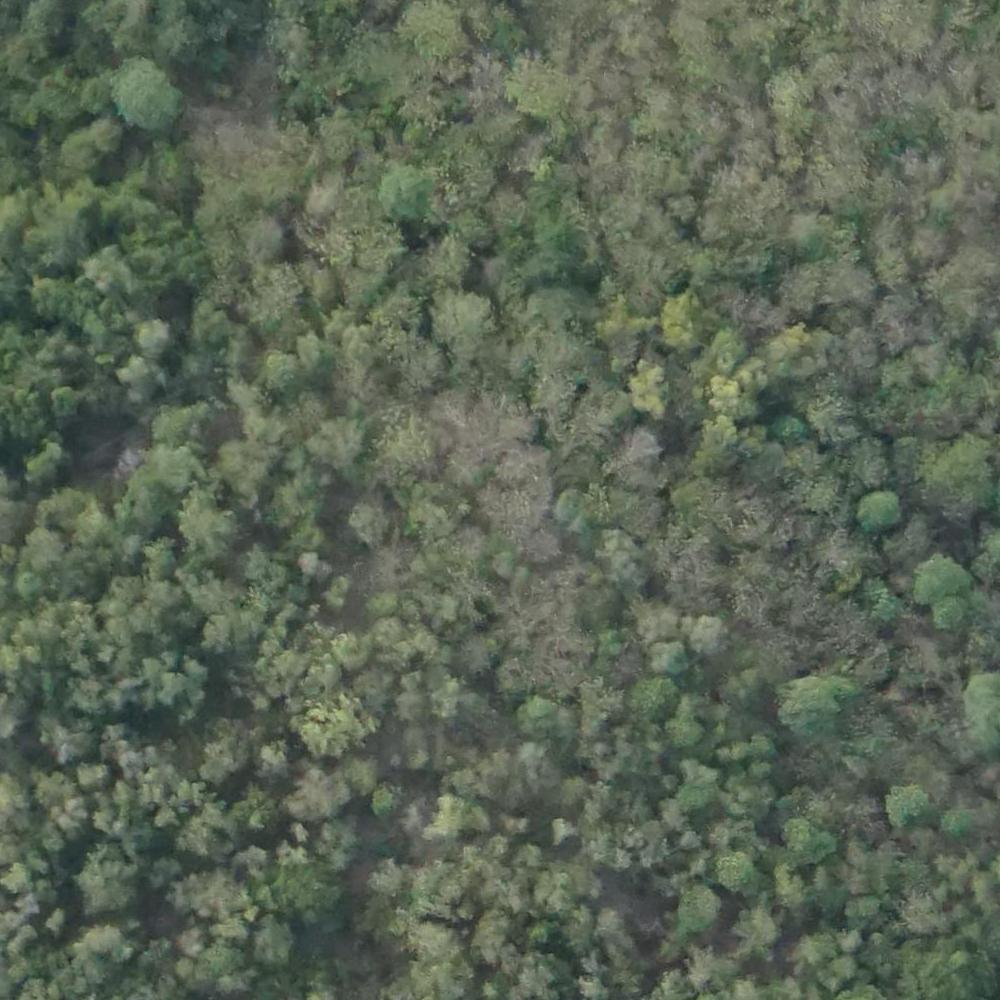tree: (107, 58, 185, 130), (297, 690, 368, 766), (771, 671, 859, 731), (138, 657, 213, 721), (940, 439, 1000, 519), (428, 287, 496, 356), (29, 186, 90, 255), (177, 493, 242, 555), (377, 157, 438, 221), (70, 853, 136, 912), (277, 769, 349, 823), (368, 415, 426, 475), (80, 249, 141, 306), (600, 302, 658, 360), (786, 815, 846, 871), (248, 917, 304, 974), (764, 328, 827, 378), (912, 551, 971, 604), (669, 759, 722, 817), (807, 399, 866, 450), (305, 412, 359, 467), (424, 787, 488, 833), (734, 904, 783, 963), (703, 416, 762, 464), (710, 851, 763, 902), (682, 607, 739, 654), (657, 294, 710, 344), (514, 692, 566, 742), (883, 778, 927, 837), (153, 400, 209, 446), (854, 486, 904, 533), (299, 330, 343, 381), (118, 349, 161, 401), (631, 674, 676, 722), (21, 437, 65, 486), (793, 210, 834, 262), (908, 141, 953, 186), (873, 289, 918, 334), (767, 69, 812, 113), (293, 774, 339, 817), (268, 345, 306, 397), (677, 887, 720, 931), (348, 502, 392, 544), (560, 489, 597, 537), (910, 220, 951, 263), (424, 238, 470, 276), (32, 273, 72, 313), (431, 675, 463, 722), (224, 440, 261, 478), (636, 599, 675, 635), (247, 213, 280, 253), (174, 775, 211, 808), (335, 627, 362, 667), (304, 552, 329, 583), (880, 361, 914, 383)
